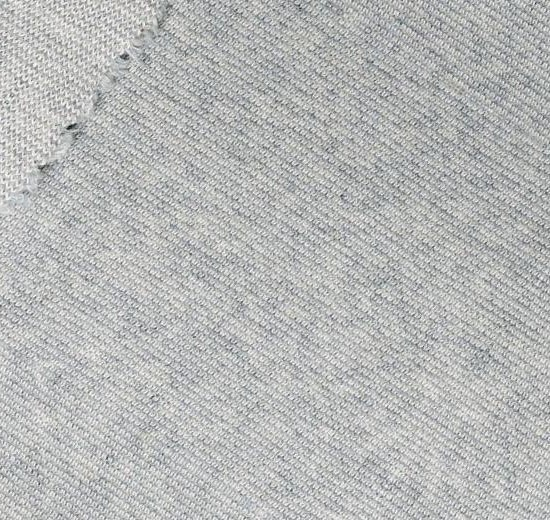slub: (3, 1, 195, 204)
